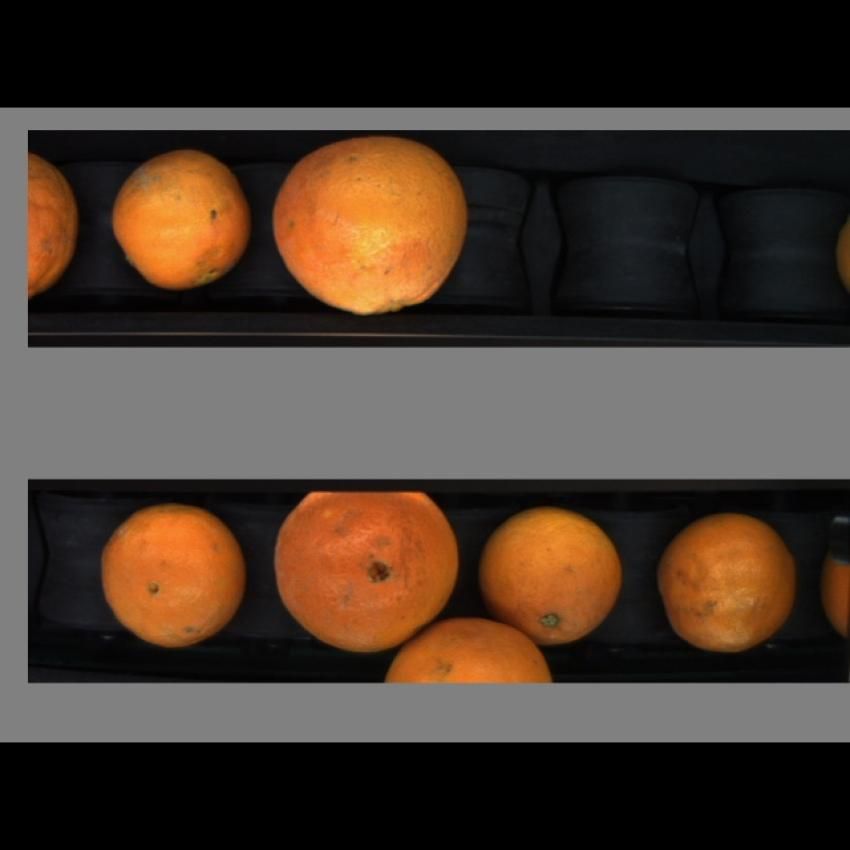Buen estado: (385, 614, 557, 684)
Mal estado: (268, 134, 476, 325), (272, 483, 462, 656), (92, 501, 254, 657), (478, 497, 630, 650), (109, 145, 256, 298), (654, 506, 796, 653), (29, 149, 85, 309)
